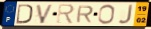D: (15, 4, 33, 25)
J: (117, 4, 134, 25)
O: (98, 4, 116, 25)
R: (56, 3, 76, 25), (75, 5, 95, 24)
V: (35, 4, 55, 25)
